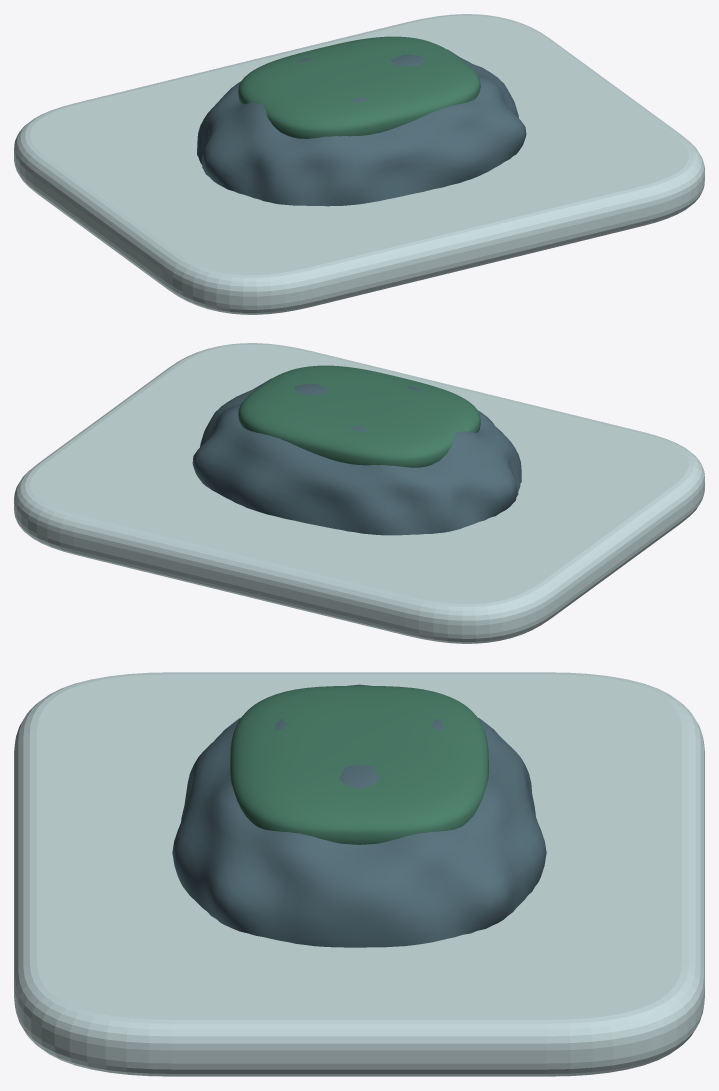
3 views of the same model, one above another, from view 1: azimuth 30°, elevation 25°; view 2: azimuth 150°, elevation 25°; view 3: azimuth 270°, elevation 25° (orthographic). The views are drawn at different scales.
Visible parts, largest first — view 1: environment-water, stone-12, island-top; view 2: environment-water, stone-12, island-top; view 3: environment-water, stone-12, island-top.
Boxes of the visible parts, x1,y1,x2,y2 form: environment-water: (14, 14, 704, 314); stone-12: (197, 49, 526, 206); island-top: (238, 36, 480, 138); environment-water: (14, 343, 704, 643); stone-12: (192, 378, 521, 535); island-top: (238, 365, 480, 467); environment-water: (14, 672, 704, 1076); stone-12: (172, 684, 546, 947); island-top: (230, 686, 488, 844).
Bounding box in the file's own units: 3 × 0.7766 × 2.4.
